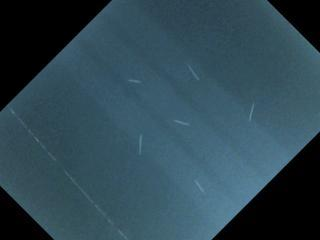crack: (6, 106, 128, 240)
scratch: (185, 60, 202, 85), (123, 73, 147, 89), (132, 131, 145, 157), (246, 100, 259, 126), (171, 115, 192, 129), (194, 180, 205, 193)
